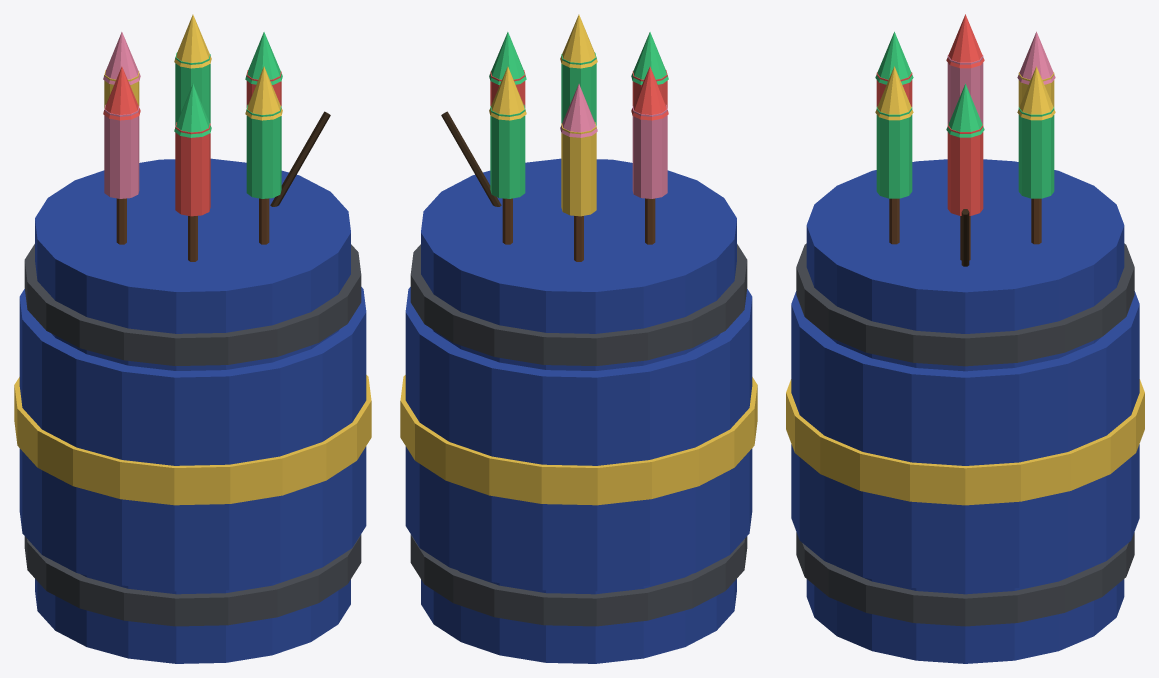
The model's file is FireworksBarrel.glb.
3 views of the same model, side by side, from view 1: azimuth 30°, elevation 25°; view 2: azimuth 150°, elevation 25°; view 3: azimuth 270°, elevation 25° (orthographic).
Visible parts, largest first — view 1: FireworksBarrel; view 2: FireworksBarrel; view 3: FireworksBarrel.
Boxes of the visible parts, <box> form: FireworksBarrel: <box>14,14,371,663</box>; FireworksBarrel: <box>400,14,757,663</box>; FireworksBarrel: <box>786,14,1144,663</box>.
Bounding box in the file's own units: 0.7 × 1.18 × 0.7.
